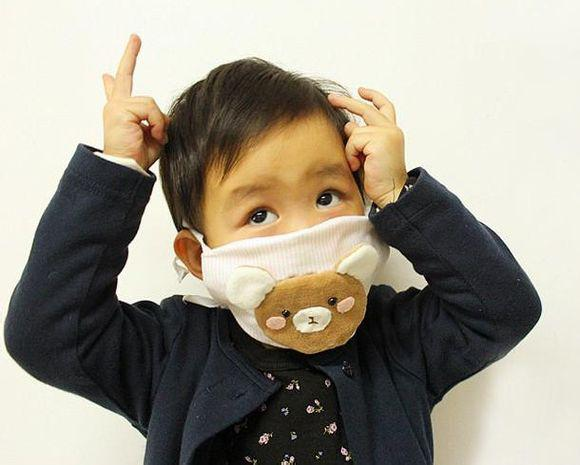OK: (206, 149, 390, 333)
